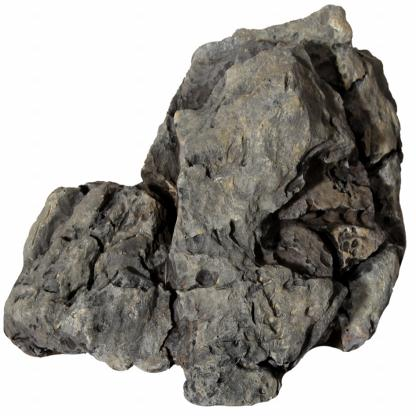Igneous_Basalt: (144, 6, 405, 415), (5, 176, 172, 387)
